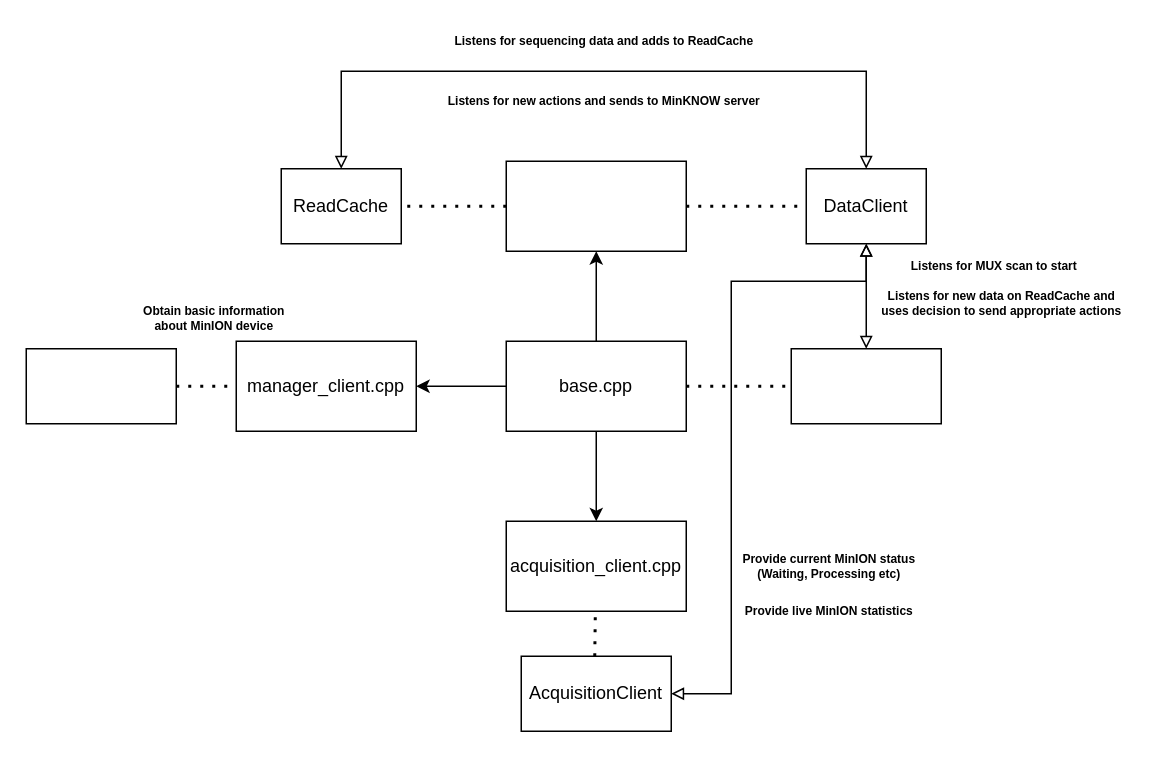
This 1163x758 diagram has some shape labels left out. The centre of each missing label's shape, as x and y in pixels:
"data_client.cpp" goes at [595,205].
"ManagerClient" goes at [100,385].
"ReadUntilClient" goes at [865,385].
